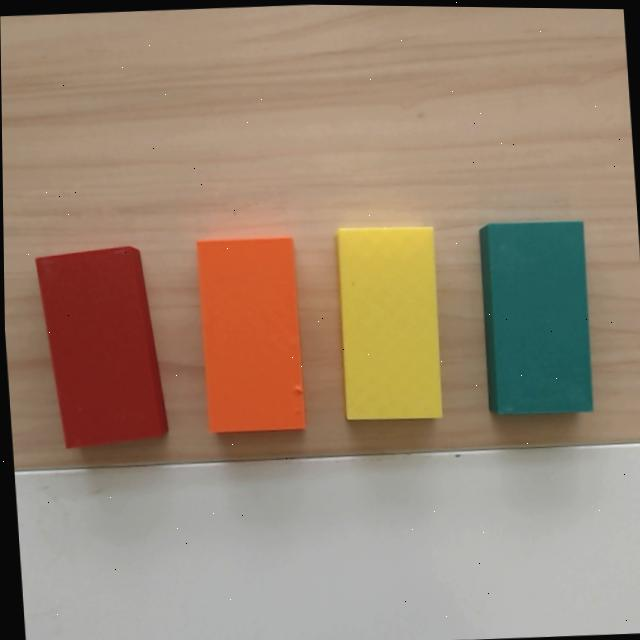Balok-Hijau-1005025: (481, 219, 593, 415)
Balok-Jingga-1005025: (196, 235, 306, 436)
Balok-Kuning-1005025: (336, 225, 444, 423)
Balok-Merah-1005025: (34, 241, 169, 451)
